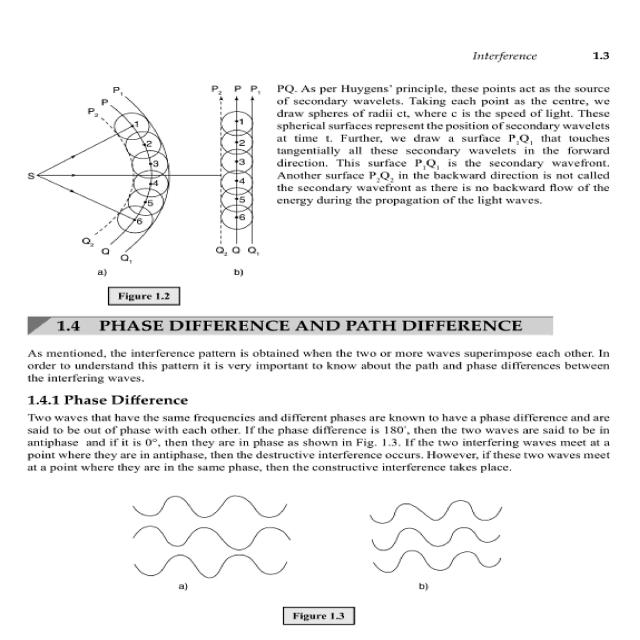diagram: (104, 485, 530, 640), (22, 69, 264, 305)
